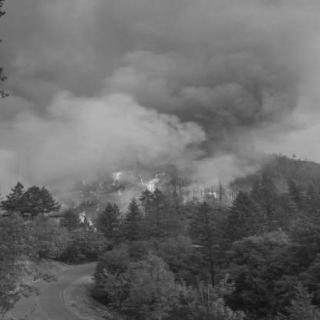Fire: (85, 168, 231, 201), (76, 205, 102, 232)
Smoke: (2, 3, 320, 172)
